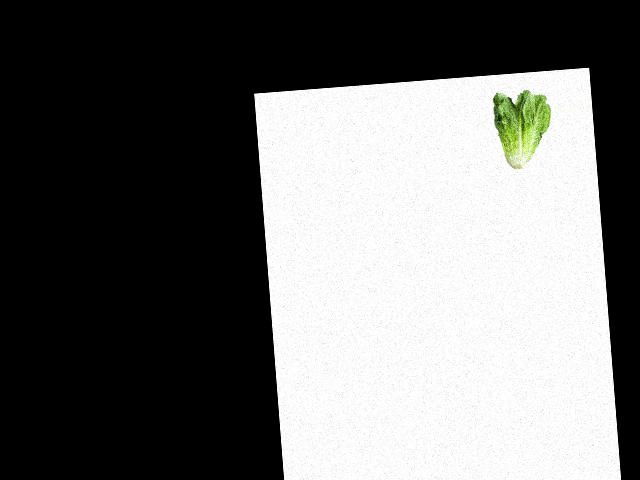lettuce: (490, 88, 554, 172)
